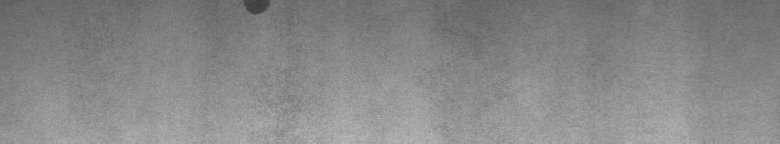fi: (240, 4, 272, 20)
